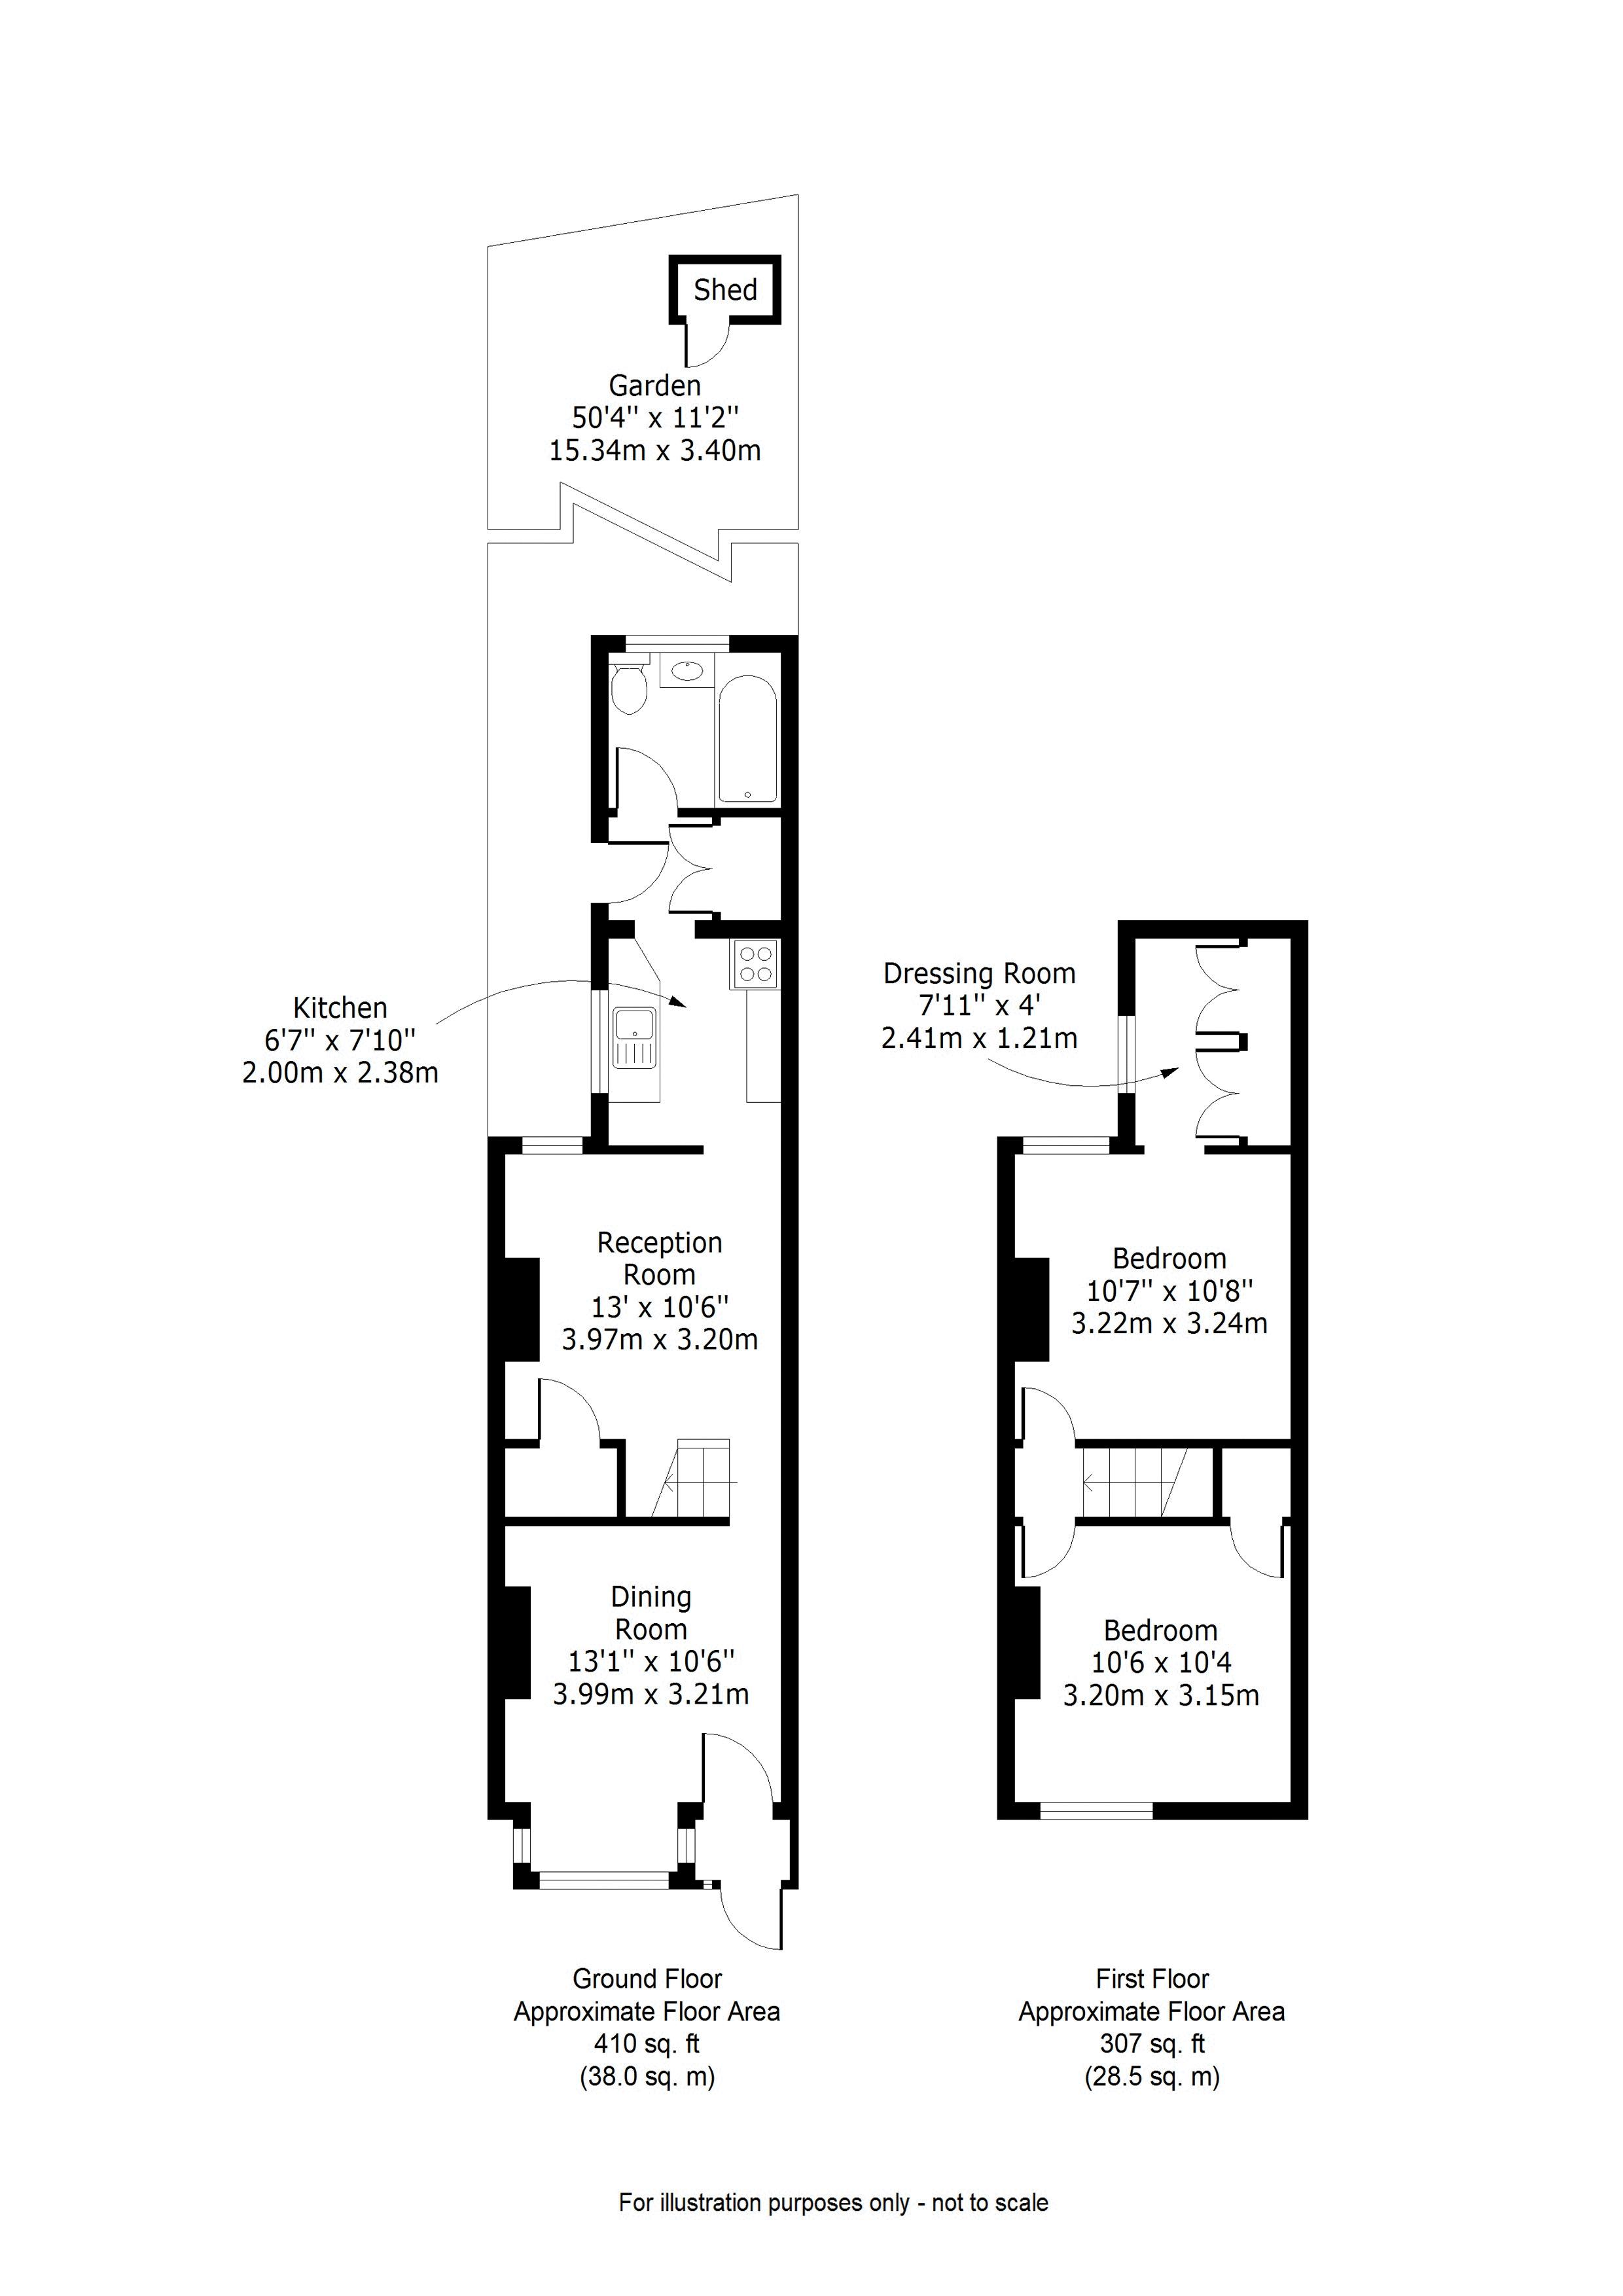window: (537, 1867, 671, 1894), (1038, 1801, 1156, 1823), (1021, 1131, 1112, 1159), (588, 987, 611, 1096), (624, 632, 731, 655), (518, 1135, 585, 1156), (676, 1825, 697, 1864), (513, 1827, 532, 1864)
